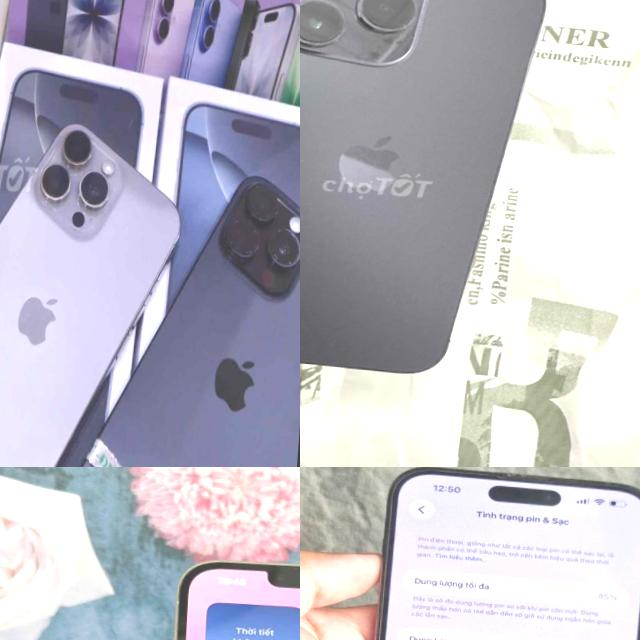gen_12_13: (137, 548, 300, 640)
gen_14: (300, 0, 552, 384), (342, 467, 640, 640)
gen_16: (79, 176, 300, 467), (0, 124, 179, 467)
